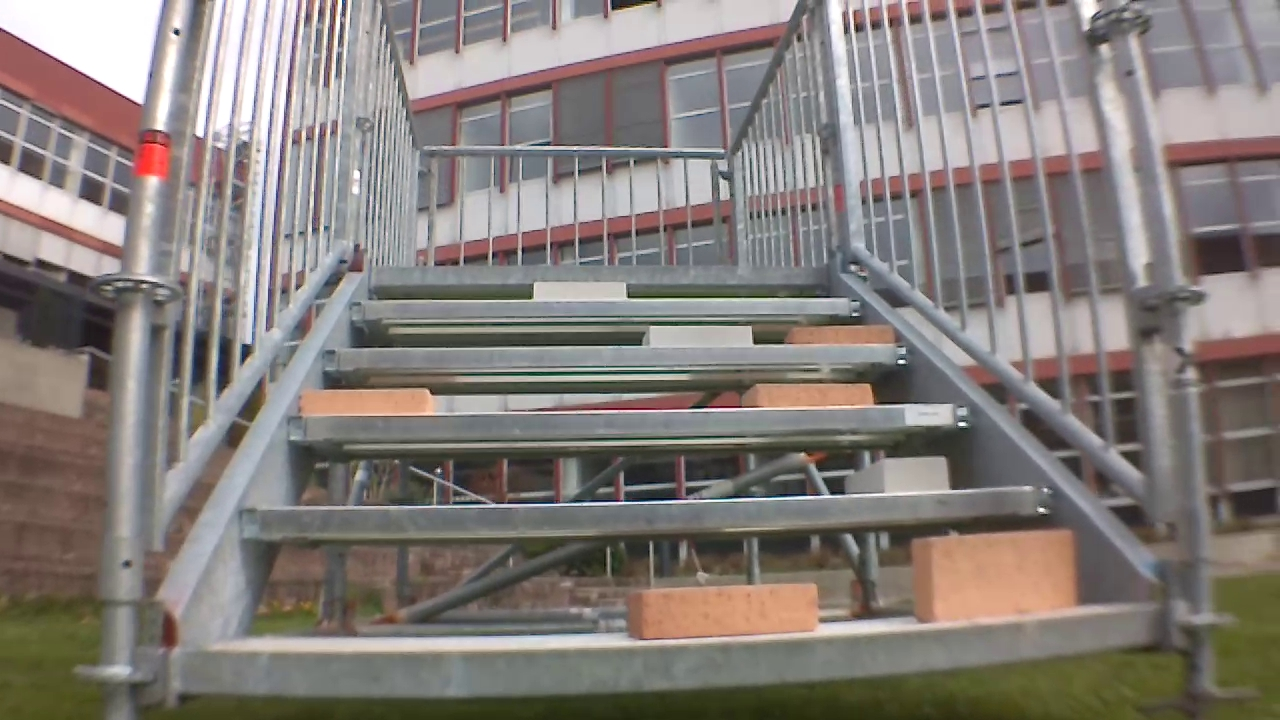brick: (914, 531, 1075, 615), (625, 581, 822, 635), (296, 382, 429, 428), (736, 376, 872, 417), (851, 452, 957, 498), (795, 317, 903, 349), (636, 321, 756, 347), (535, 283, 627, 306)
edge: (171, 608, 1176, 703), (233, 484, 1054, 538), (273, 398, 982, 444), (346, 288, 874, 326), (318, 342, 916, 373), (373, 263, 828, 285)
stairs: (106, 0, 1172, 715)
steps: (144, 259, 1188, 701)
